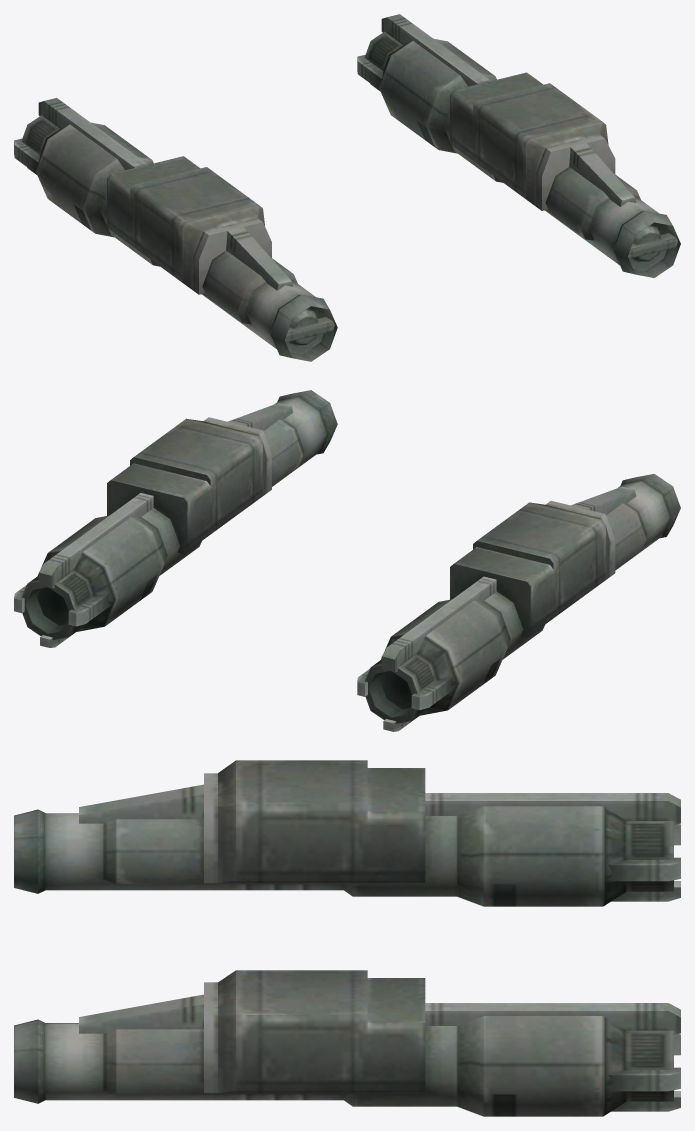
Rendered from black_sun_fighter_light_engine_s02_l0.fbx.
3 renders of one model, top to bottom at view 1: azimuth 30°, elevation 25°; view 2: azimuth 150°, elevation 25°; view 3: azimuth 270°, elevation 25°, orthographic. The views are drawn at different scales.
Visible parts, largest first — view 1: mesh_node; view 2: mesh_node; view 3: mesh_node.
Boxes of the visible parts, x1,y1,x2,y2 form: mesh_node: [14, 14, 680, 361]; mesh_node: [14, 390, 680, 731]; mesh_node: [14, 760, 680, 1116].
Size of the model in its own units: 9.93 by 2.18 by 10.79.
Materials: 1 (1 with a texture image).
